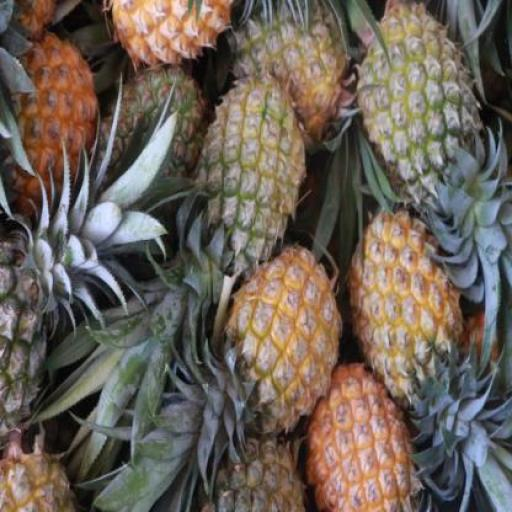------------------------------: (354, 3, 474, 217), (194, 82, 300, 276), (230, 2, 348, 146), (0, 232, 54, 465)
Pineapple - v8 v1: (349, 211, 458, 406), (223, 250, 330, 433), (1, 32, 100, 220), (308, 365, 421, 512)
